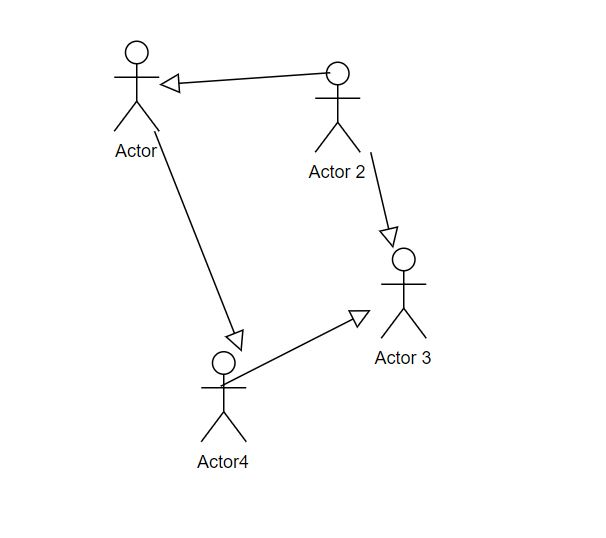actor: (109, 39, 160, 132), (198, 351, 248, 441), (315, 61, 361, 155), (382, 247, 425, 340)
generalization: (153, 131, 244, 352), (224, 308, 372, 384), (158, 68, 330, 93), (365, 151, 397, 250)
text: (372, 346, 437, 370), (297, 162, 368, 181), (193, 452, 253, 472), (111, 142, 157, 161)
